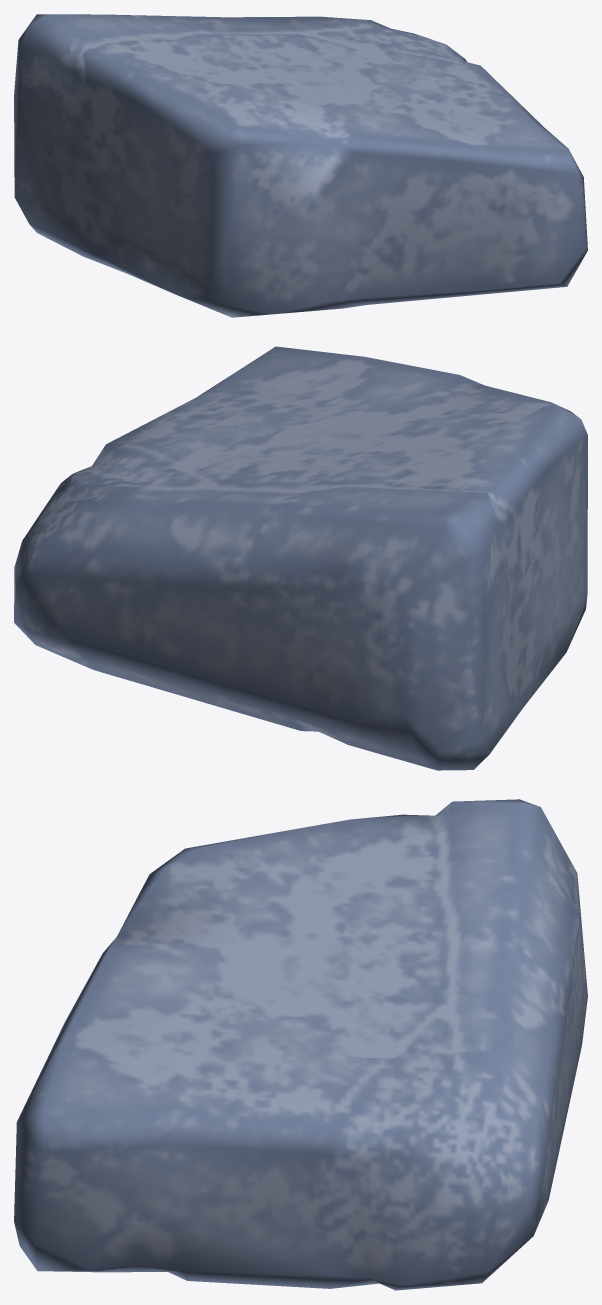
The model's file is SM_Stage_Final_Crack_01.fbx.
3 renders of one model, top to bottom at view 1: azimuth 30°, elevation 25°; view 2: azimuth 150°, elevation 25°; view 3: azimuth 270°, elevation 25°, orthographic. The views are drawn at different scales.
Parts seen in each view (by area): view 1: SM_Stage_Final_Crack_01; view 2: SM_Stage_Final_Crack_01; view 3: SM_Stage_Final_Crack_01.
Part boxes in pixels (<box>): SM_Stage_Final_Crack_01: <box>14,14,587,317</box>; SM_Stage_Final_Crack_01: <box>14,346,587,770</box>; SM_Stage_Final_Crack_01: <box>14,799,587,1290</box>.
Bounding box in the file's own units: 37.12 × 18.74 × 36.
Materials: 1 (1 with a texture image).
